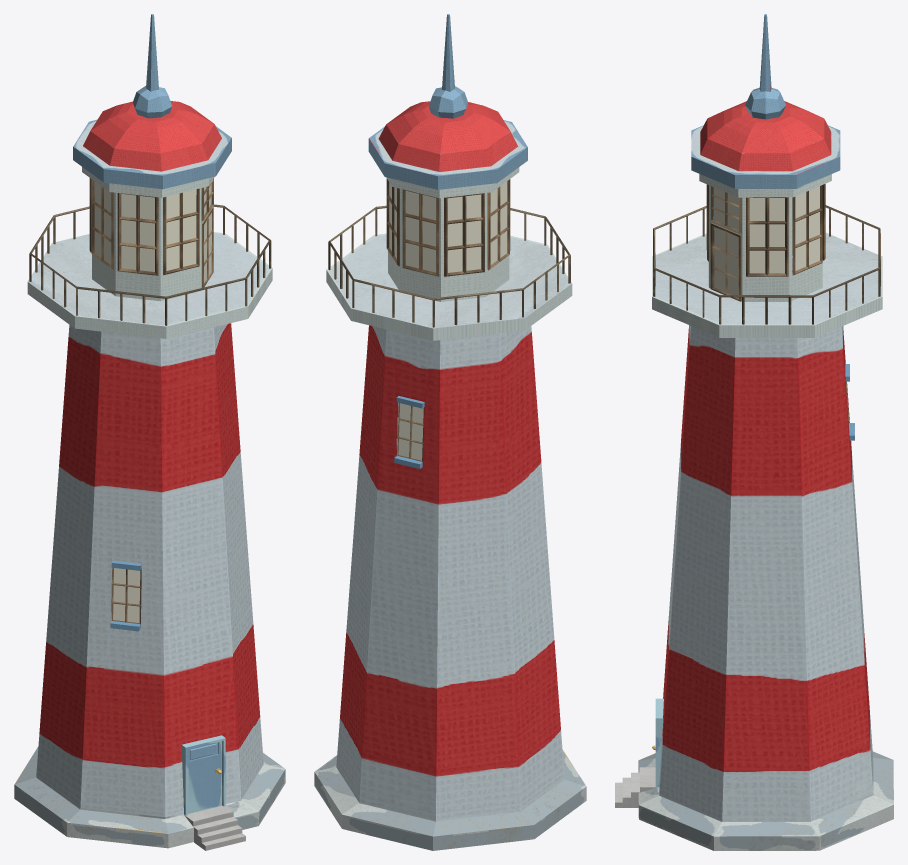
Rendered from lighthouse_finale 1.fbx.
3 renders of one model, left to right at view 1: azimuth 30°, elevation 25°; view 2: azimuth 150°, elevation 25°; view 3: azimuth 270°, elevation 25°, orthographic.
Visible parts, largest first — view 1: lighthouse, part lighthouse 1, crbIsha, glass_lighthouse, glass of lamp, glass of lamp.001, zabor, Cylinder.001, Cube, glass_windows, window1, DoorKosyk (+1 smaller); view 2: lighthouse, part lighthouse 1, crbIsha, glass_lighthouse, glass of lamp, glass of lamp.001, zabor, glass_windows, window2; view 3: lighthouse, part lighthouse 1, crbIsha, glass_lighthouse, glass of lamp, glass of lamp.001, zabor, glass door, Cube, DoorKosyk.
Boxes of the visible parts, bbox=[...] form: lighthouse: bbox=[14, 323, 285, 848]; part lighthouse 1: bbox=[27, 232, 272, 338]; crbIsha: bbox=[73, 14, 231, 189]; glass_lighthouse: bbox=[94, 181, 211, 271]; glass of lamp: bbox=[82, 167, 214, 301]; glass of lamp.001: bbox=[89, 178, 213, 275]; zabor: bbox=[29, 204, 271, 325]; Cylinder.001: bbox=[188, 741, 221, 813]; Cube: bbox=[184, 805, 245, 850]; glass_windows: bbox=[113, 568, 140, 623]; window1: bbox=[110, 561, 141, 631]; DoorKosyk: bbox=[181, 735, 225, 815]; lighthouse: bbox=[314, 325, 586, 850]; part lighthouse 1: bbox=[326, 233, 572, 340]; crbIsha: bbox=[368, 14, 527, 189]; glass_lighthouse: bbox=[389, 181, 507, 272]; glass of lamp: bbox=[386, 167, 519, 301]; glass of lamp.001: bbox=[386, 178, 510, 276]; zabor: bbox=[328, 205, 570, 327]; glass_windows: bbox=[398, 403, 423, 460]; window2: bbox=[394, 396, 424, 468]; lighthouse: bbox=[638, 325, 893, 850]; part lighthouse 1: bbox=[652, 232, 882, 337]; crbIsha: bbox=[691, 14, 840, 188]; glass_lighthouse: bbox=[713, 186, 819, 273]; glass of lamp: bbox=[699, 174, 831, 301]; glass of lamp.001: bbox=[706, 184, 825, 276]; zabor: bbox=[653, 205, 880, 324]; glass door: bbox=[710, 223, 741, 301]; Cube: bbox=[615, 767, 658, 807]; DoorKosyk: bbox=[655, 698, 663, 786].
Bounding box in the file's own units: 1709 × 5789 × 1866.
23 materials, 23 textured.
